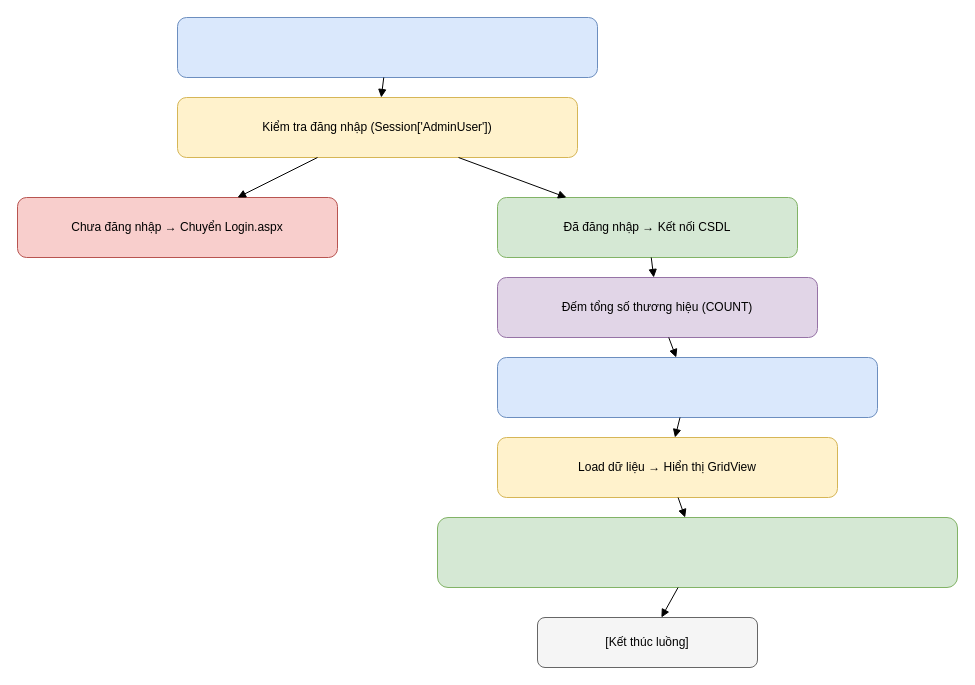
Image size: 975x685. Some labels were removed from this diagram. The shapes that lost their labels are listed below. From the top down, each one's box as (x1, y1, x2, y2) in pixels, then its label:
(176, 16, 598, 78): [Quản trị viên truy cập Brand.aspx]
(496, 356, 878, 418): Tính số trang (Pagination: OFFSET...FETCH)
(436, 516, 958, 588): Người dùng thao tác: Thêm / Sửa / Xóa / Chuyển trang
